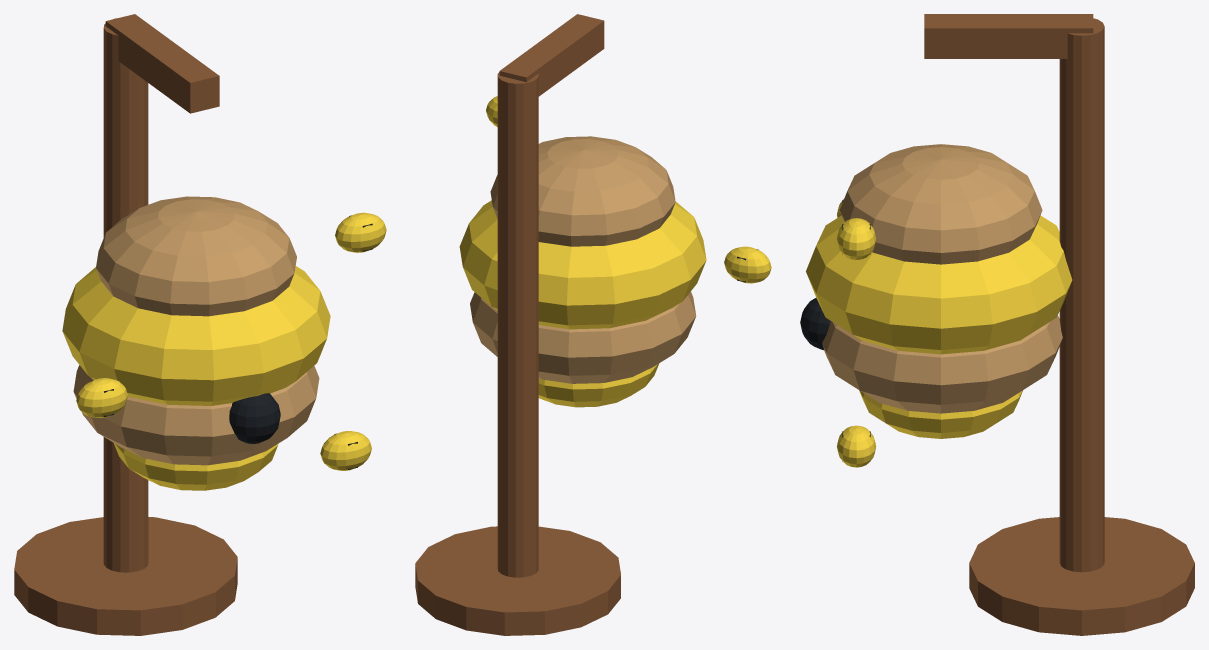
The model's file is wasp-nest-lod0.glb.
The picture shows the model from 3 angles, left to right: view 1: azimuth 30°, elevation 25°; view 2: azimuth 150°, elevation 25°; view 3: azimuth 270°, elevation 25°; orthographic projection. The views are drawn at different scales.
Parts seen in each view (by area): view 1: wasp-nest; view 2: wasp-nest; view 3: wasp-nest.
Part boxes in pixels (box(x1,y1,x2,y2)): wasp-nest: box(14, 14, 386, 635); wasp-nest: box(415, 14, 771, 635); wasp-nest: box(800, 14, 1194, 635).
Bounding box in the file's own units: 0.628 × 1.11 × 0.7.
